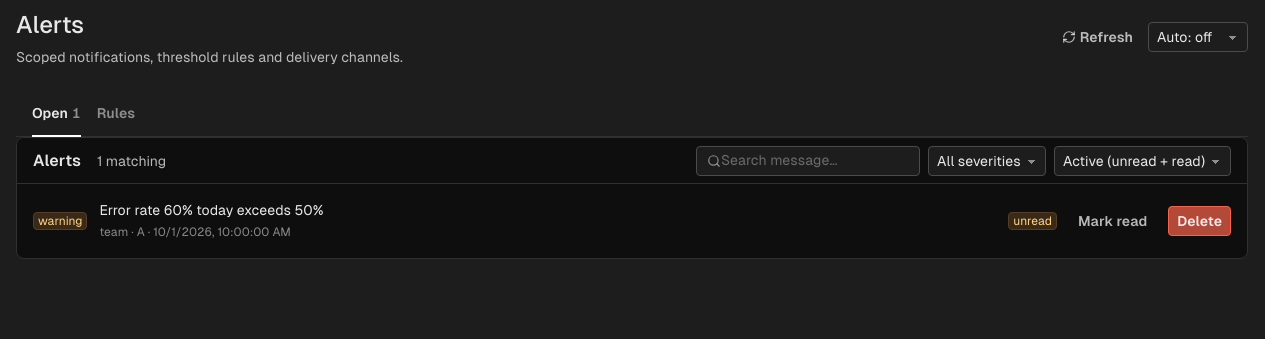
Test: Alerts › renders rules for managers without channel management
Click the tab "Rules".
click(116, 114)  # box [97,91,135,137]
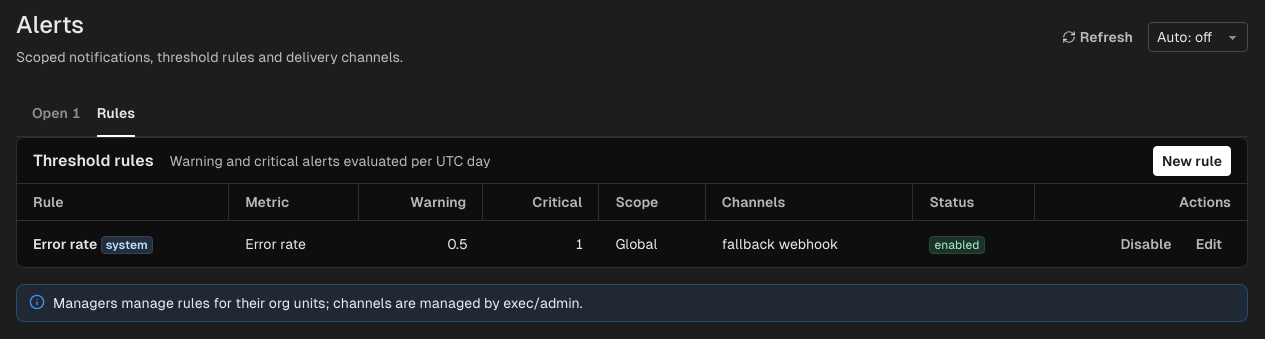
Expected: the text "Error rate" is shown, [33,236,97,252]
